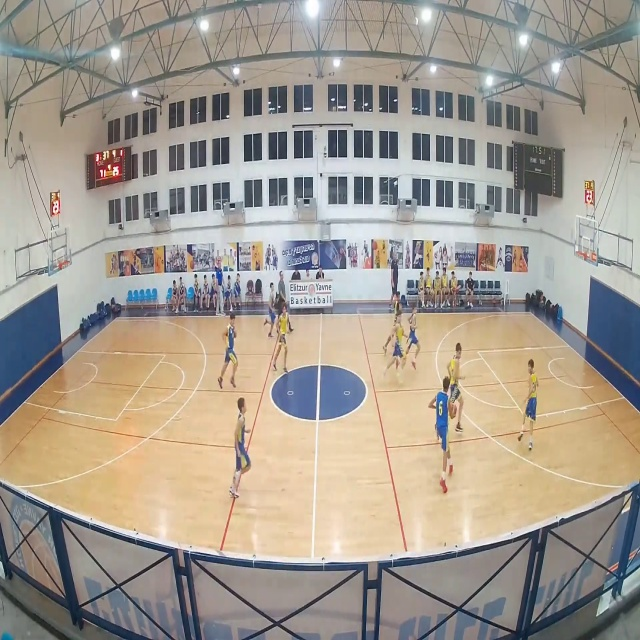Basketball: (448, 401, 458, 418)
